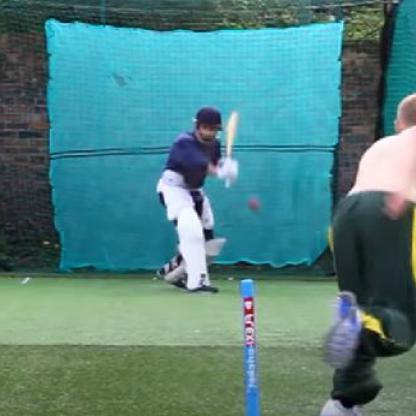ball: (240, 192, 264, 216)
